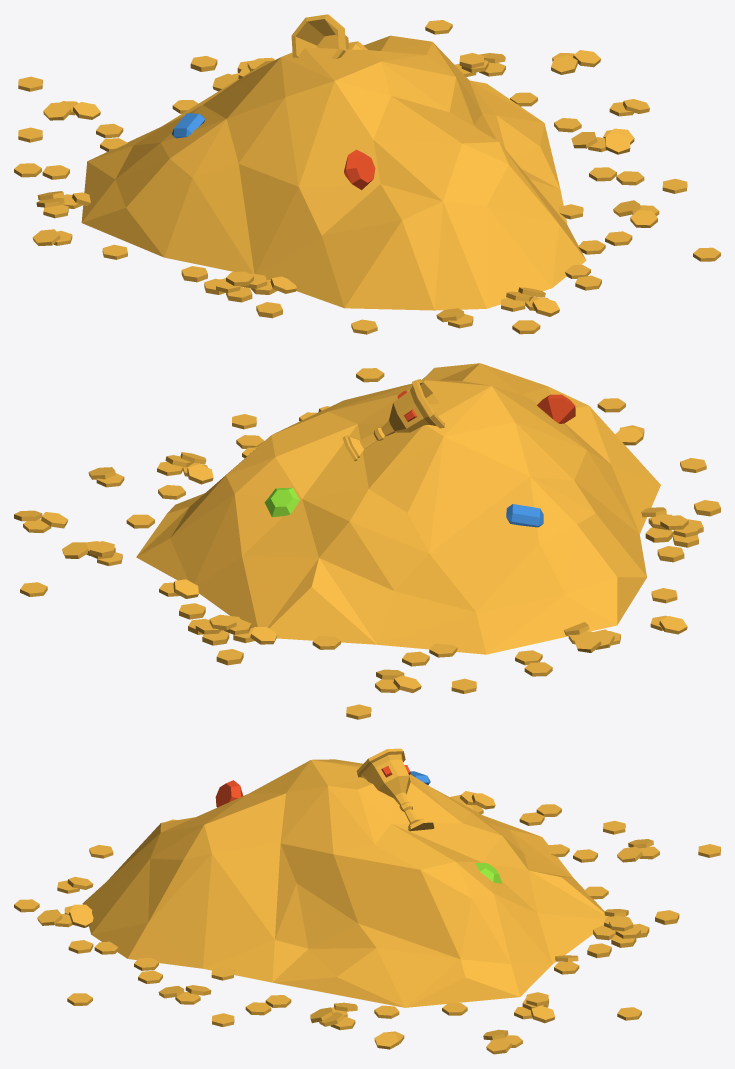
Rendered from TreasurePile_3.fbx.
3 renders of one model, top to bottom at view 1: azimuth 30°, elevation 25°; view 2: azimuth 150°, elevation 25°; view 3: azimuth 270°, elevation 25°, orthographic. The views are drawn at different scales.
Visible parts, largest first — view 1: TreasurePile_3; view 2: TreasurePile_3; view 3: TreasurePile_3.
Boxes of the visible parts, x1,y1,x2,y2 form: TreasurePile_3: [14, 14, 720, 334]; TreasurePile_3: [14, 363, 720, 719]; TreasurePile_3: [14, 748, 720, 1054].
Bounding box in the file's own units: 157 × 42 × 172.
